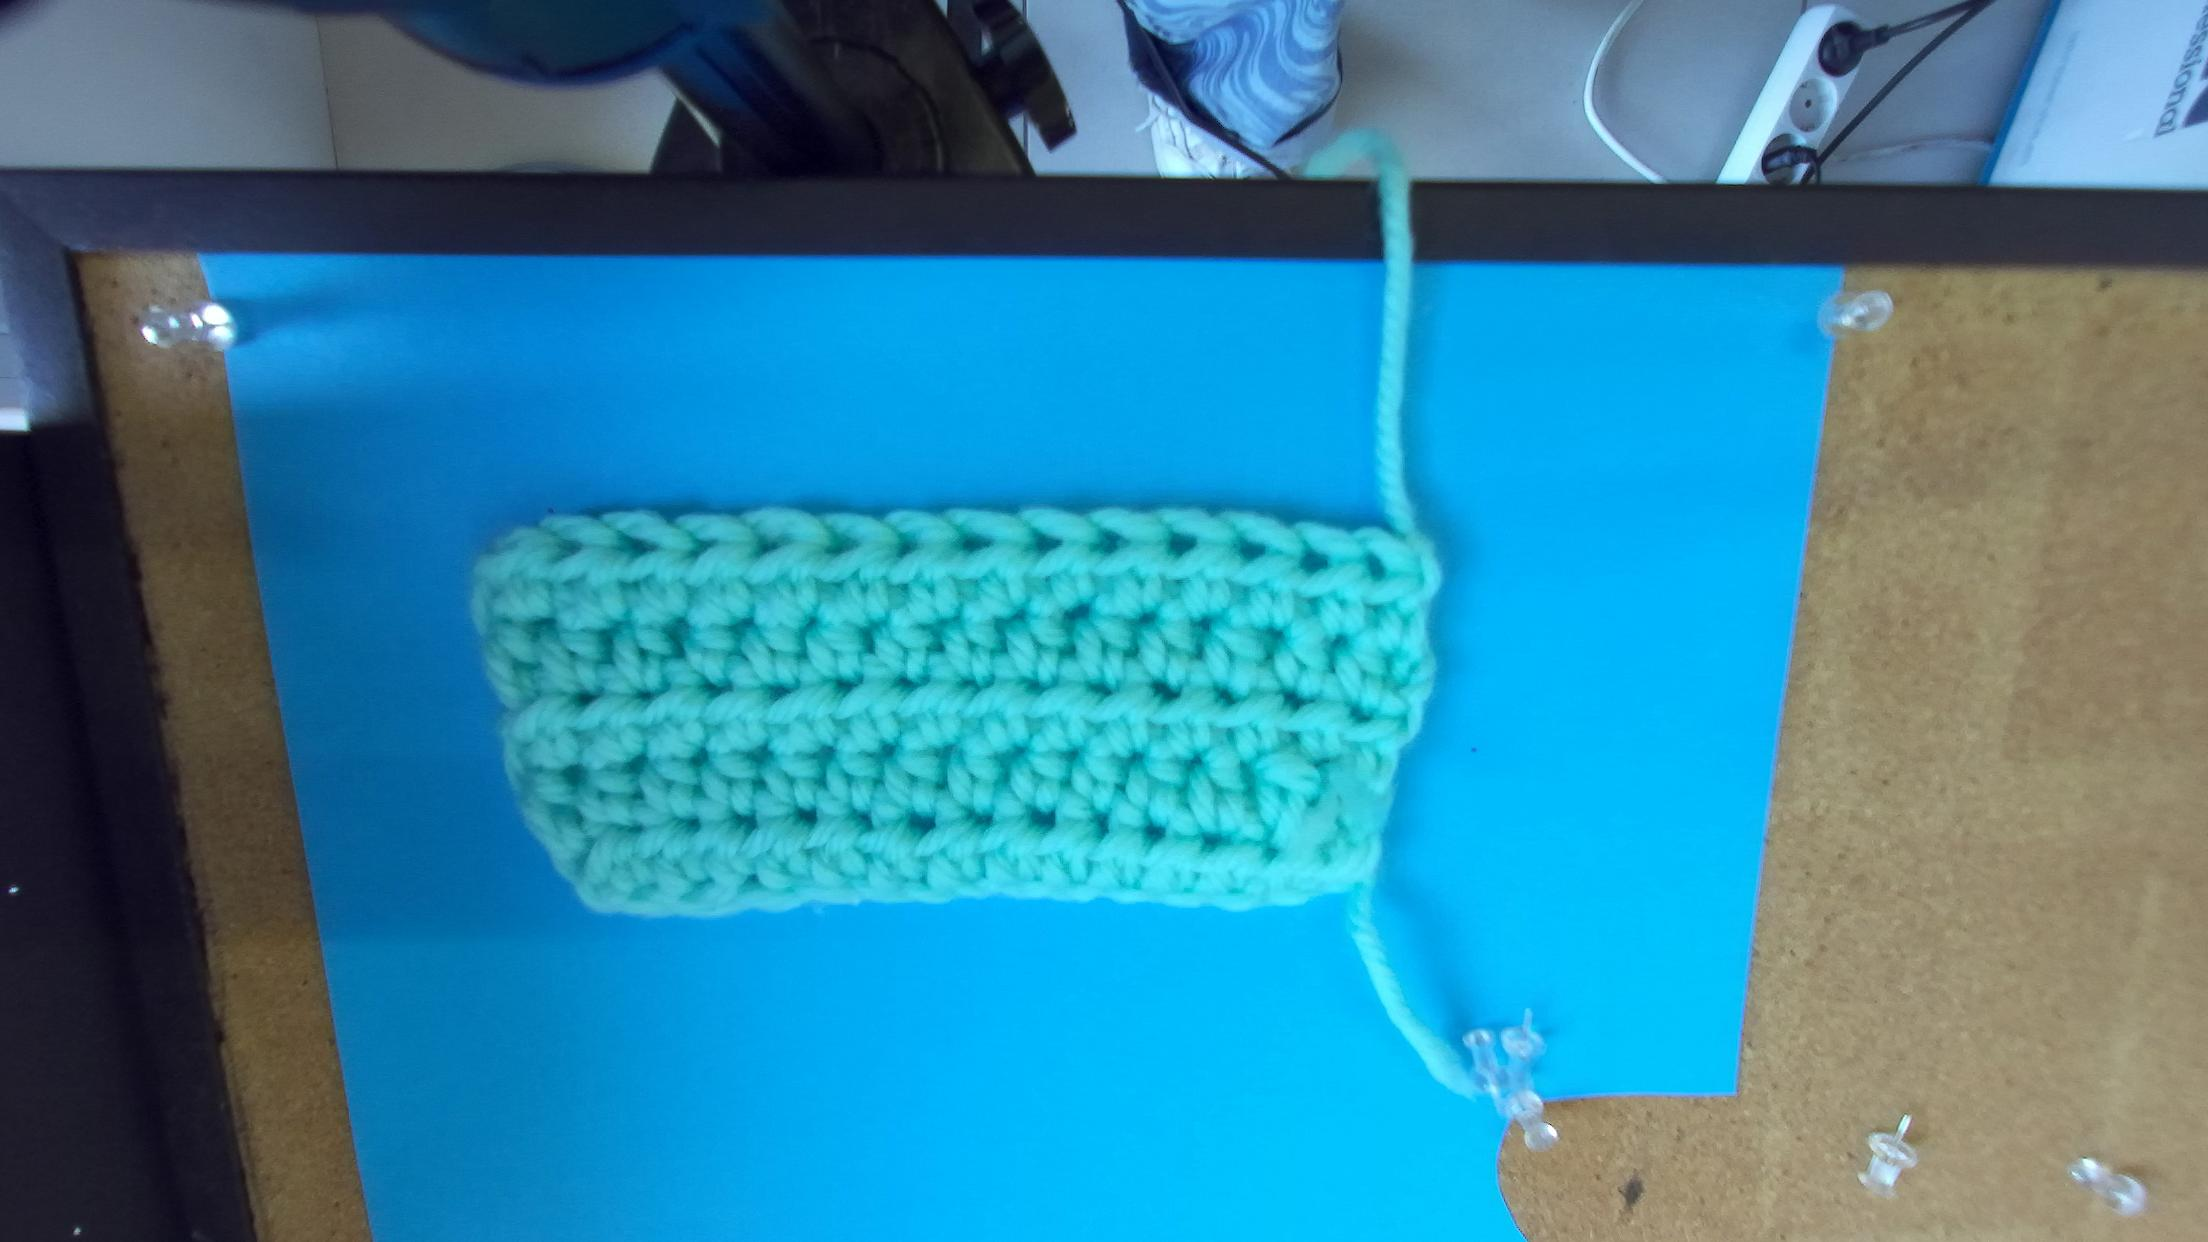hole: (617, 532, 661, 563), (748, 529, 790, 560), (544, 537, 584, 567), (1230, 534, 1268, 563), (1022, 528, 1062, 555), (1298, 544, 1331, 576), (1087, 528, 1130, 552), (1166, 531, 1198, 560), (952, 534, 995, 555), (822, 531, 858, 555), (1360, 552, 1388, 582), (687, 534, 719, 560), (896, 535, 922, 560)
swatch: (467, 510, 1444, 922)
